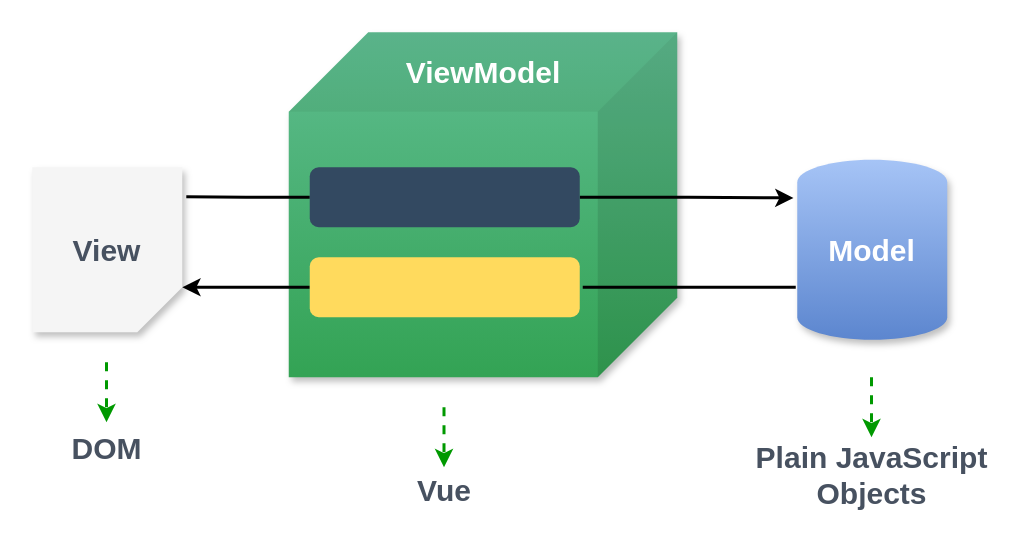
The diagram is 1032 pixels wide and 537 high, and some of its shapes have lost their labels. The centre of each missing label's shape, as x and y in pixels:
Data Bindings: (444,286)
DOM Listeners: (444,196)
